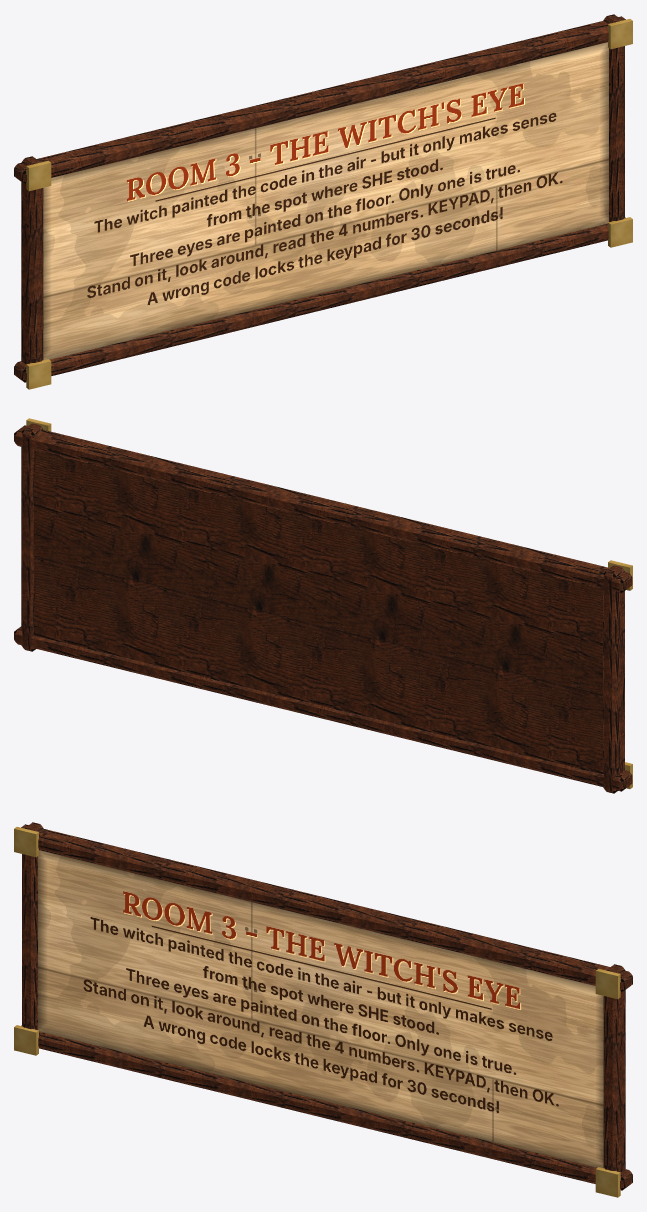
Rendered from sg_esc_r3.glb.
3 renders of one model, top to bottom at view 1: azimuth 30°, elevation 25°; view 2: azimuth 150°, elevation 25°; view 3: azimuth 330°, elevation 25°, orthographic.
Visible parts, largest first — view 1: spire; view 2: spire; view 3: spire.
Boxes of the visible parts, left/top/right/bottom form: spire: left=14, top=14, right=632, bottom=389; spire: left=14, top=418, right=632, bottom=793; spire: left=14, top=822, right=632, bottom=1197.
Size of the model in its own units: 4.96 by 1.72 by 0.19.
3 materials, 3 textured.
